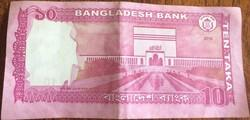10 taka: (10, 1, 248, 118)
